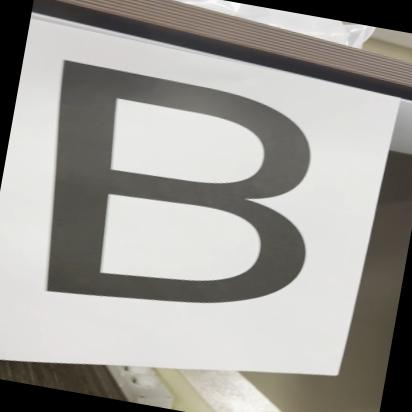seat: (0, 37, 356, 344)
